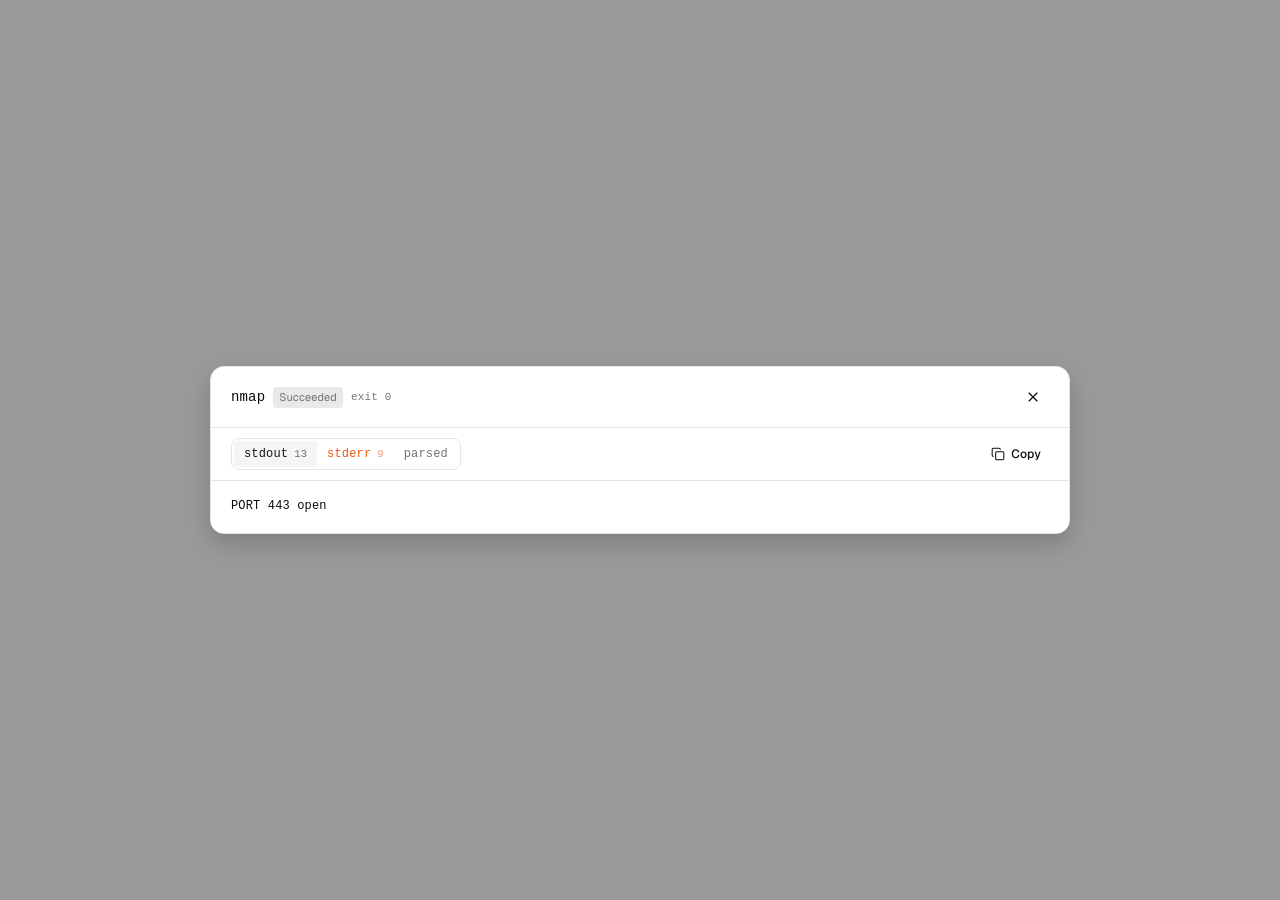
NodeOutputModal › opens on stdout for a node that succeeded, and switches on demand
Expected: the text "PORT 443 open" is shown, [231,499,327,513]
Click the tab "stderr9" at (355, 454), box [317,441,394,467]
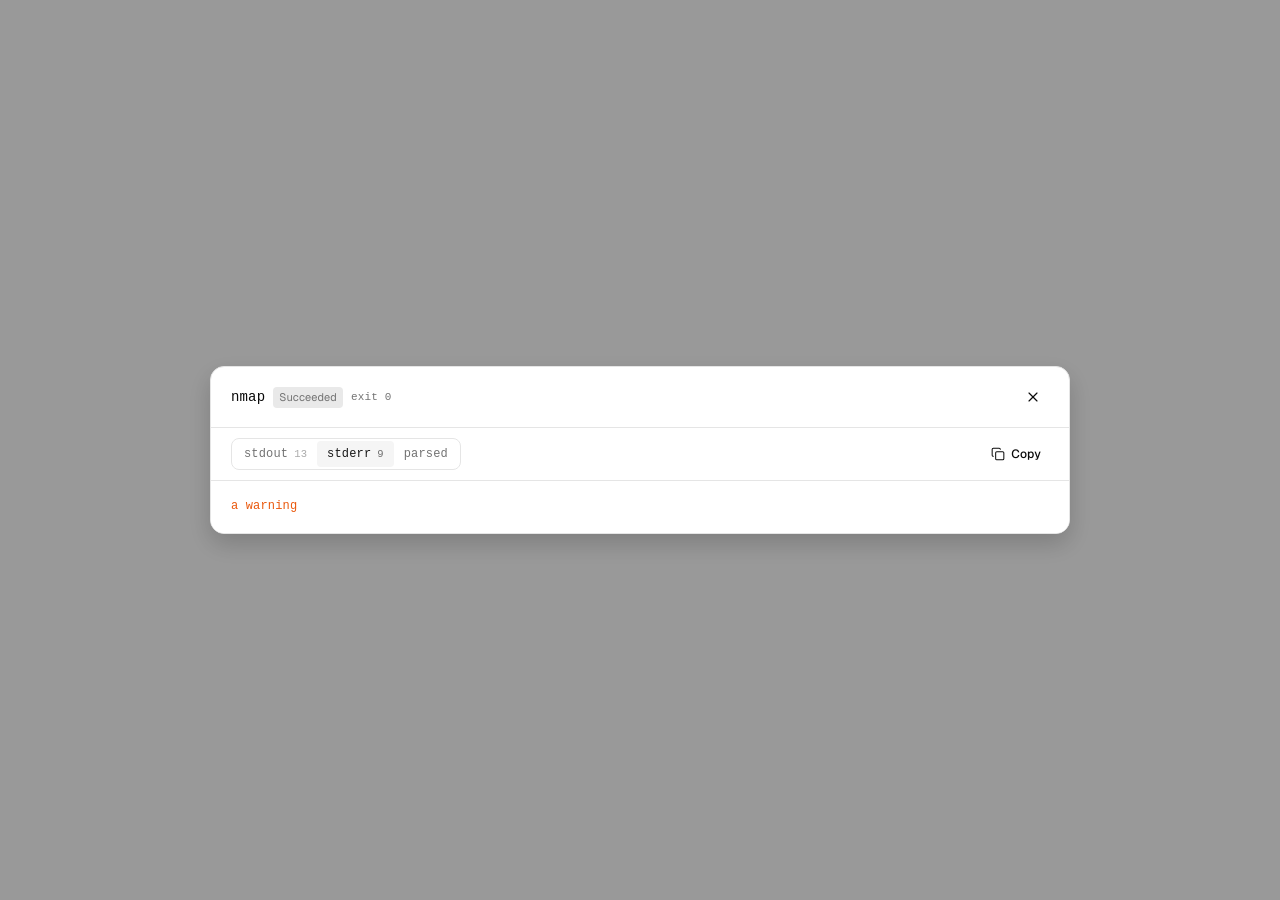
Result: the text "a warning" is shown at [231,499,297,513]
